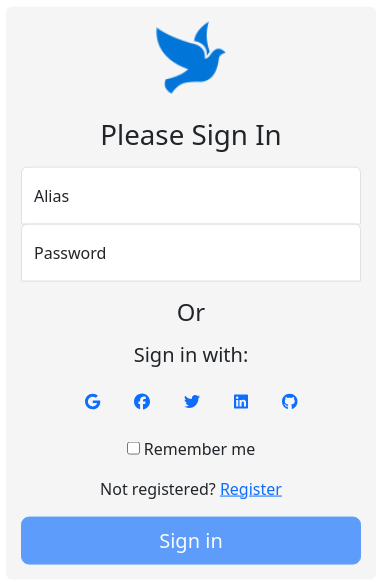
Scenario: Login Component › disables the sign in button if either the alias or the password field is empty
Step 1. Type "a" into the field labelled "Alias" → (191, 196), box [21, 167, 361, 225]
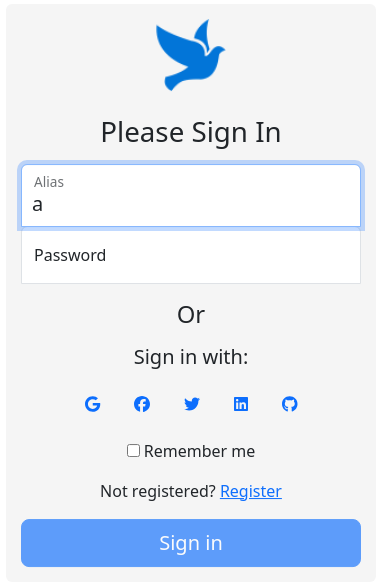
Step 2. Type "p" into the password field labelled "Password" → (191, 255), box [21, 226, 361, 284]
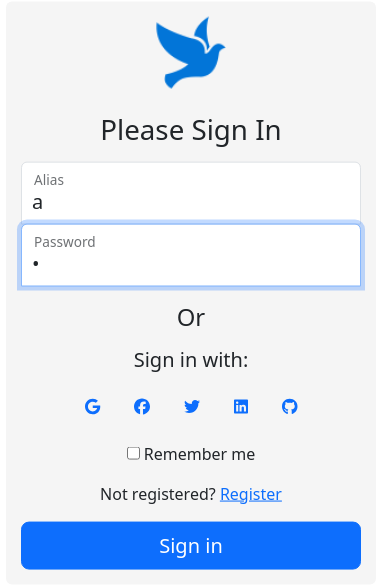
Expected: the button "Sign in" is enabled, [21, 521, 361, 569]
Step 3. Clear the field labelled "Alias" → (191, 193), box [21, 162, 361, 225]
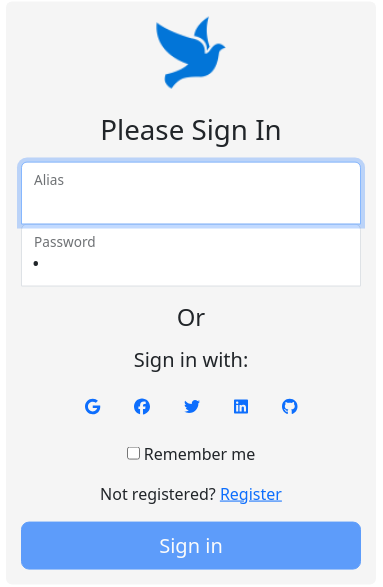
Expected: the button "Sign in" is disabled, [21, 521, 361, 569]
